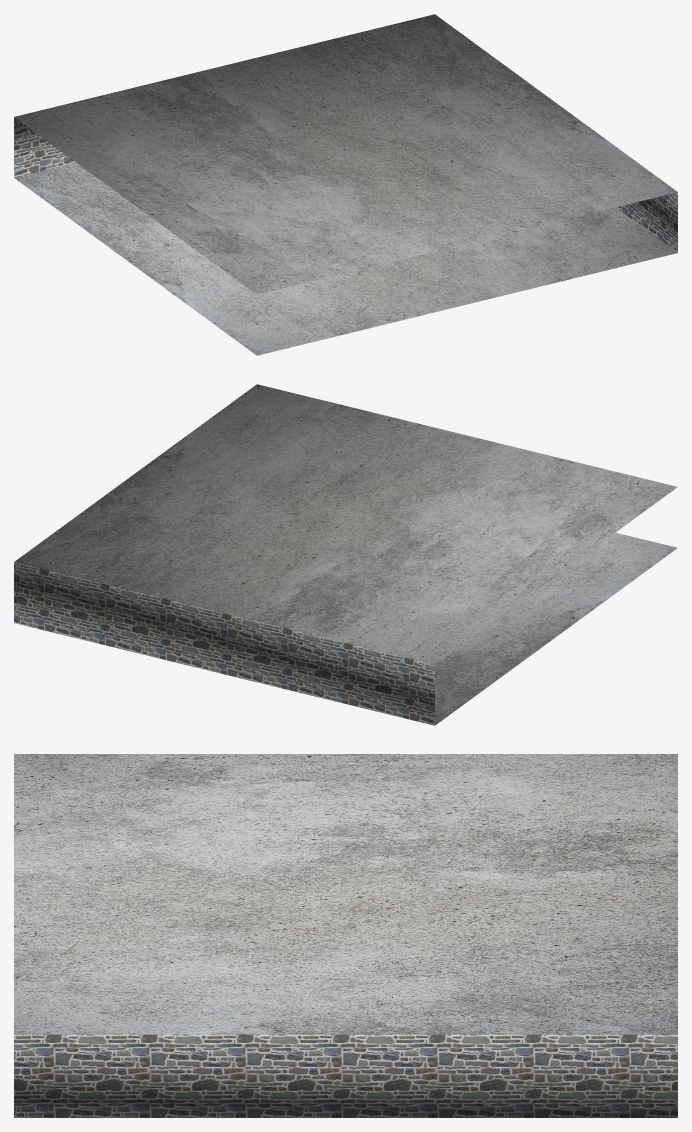
File: from_steve.fbx
3 views of the same model, one above another, from view 1: azimuth 30°, elevation 25°; view 2: azimuth 150°, elevation 25°; view 3: azimuth 270°, elevation 25° (orthographic). The views are drawn at different scales.
Parts seen in each view (by area): view 1: Cube; view 2: Cube; view 3: Cube.
Part boxes in pixels (bbox=[...]): Cube: bbox=[14, 14, 677, 355]; Cube: bbox=[14, 384, 677, 725]; Cube: bbox=[14, 754, 677, 1117].
Bounding box in the file's own units: 5123 × 709 × 5123.
